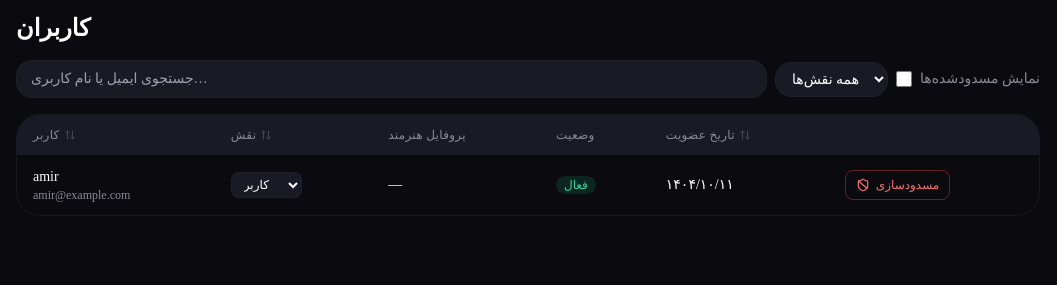
Test case: AdminUsersPage › shows an error message when banning a user fails
The width and height of the screenshot is (1057, 285).
Click the button "مسدودسازی". click: (898, 185)
box: [845,170,950,200]
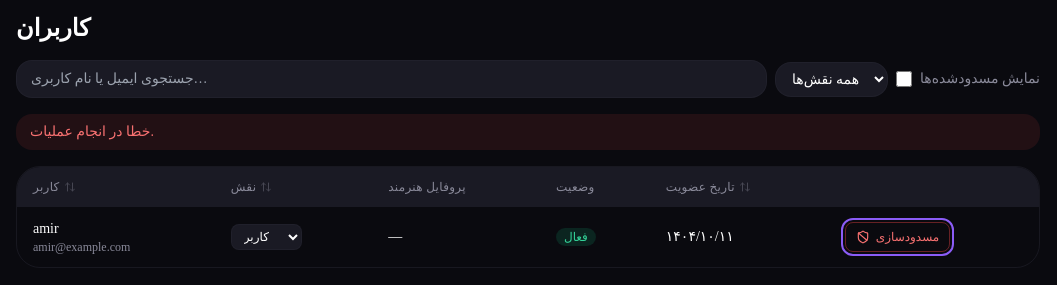
Expected: the message reads "خطا در انجام عملیات.", [30,124,154,139]
